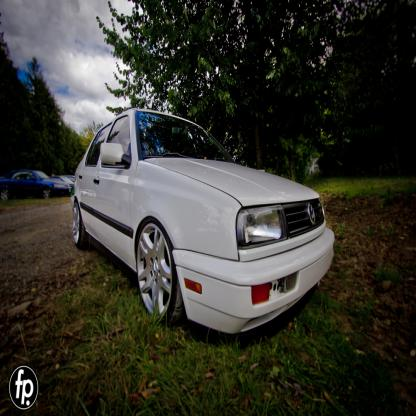Car: (70, 108, 335, 334), (0, 169, 72, 200)
